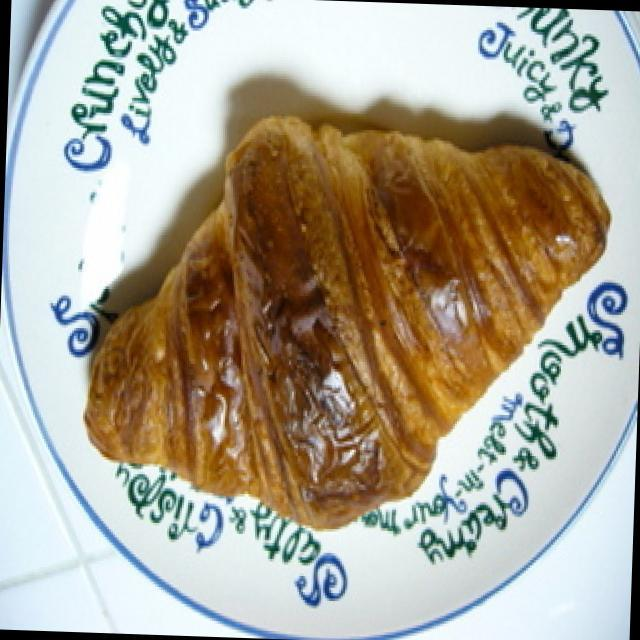Croissant: (66, 102, 620, 546)
